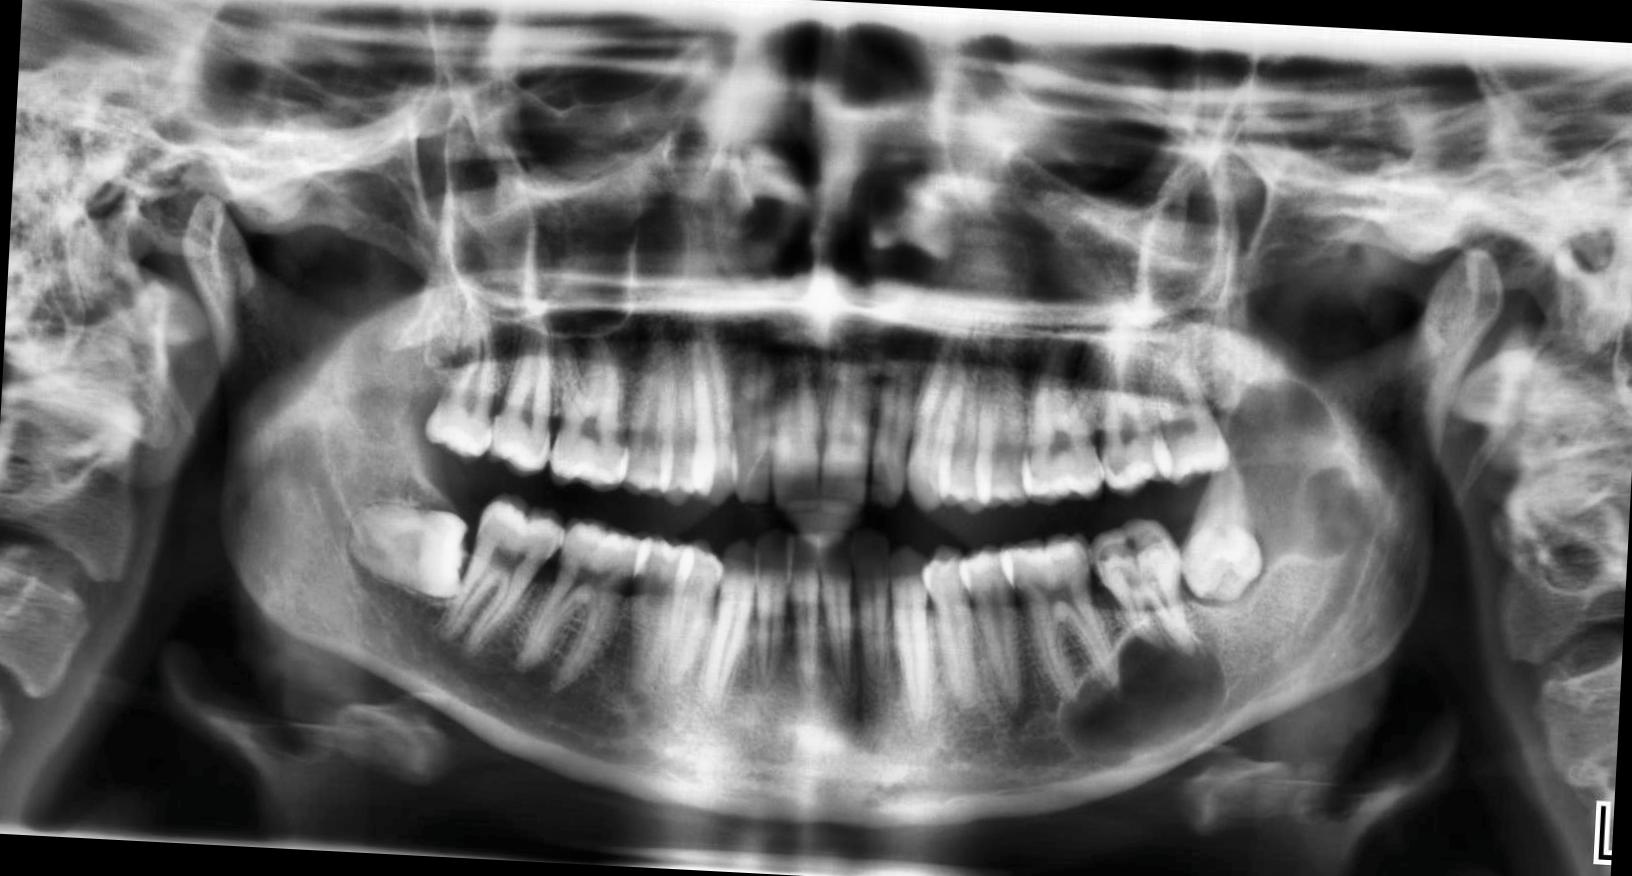keratokist: (1216, 370, 1375, 613), (1052, 607, 1233, 778)
